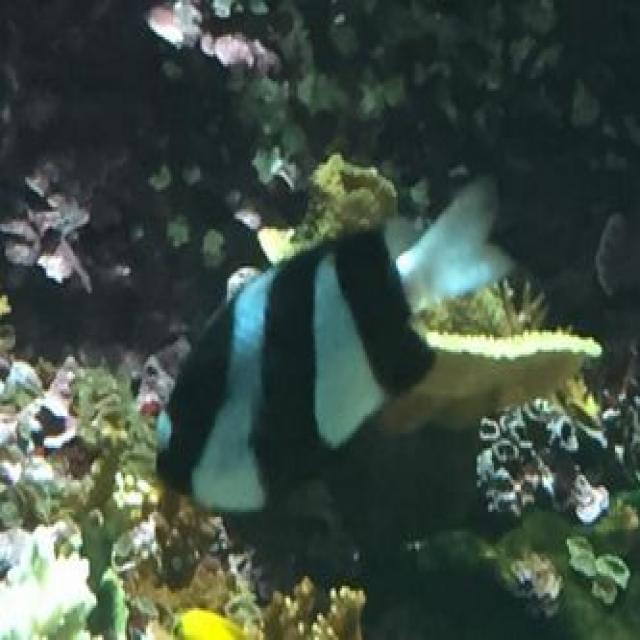Three_striped DasmselFish: (154, 179, 513, 514)
